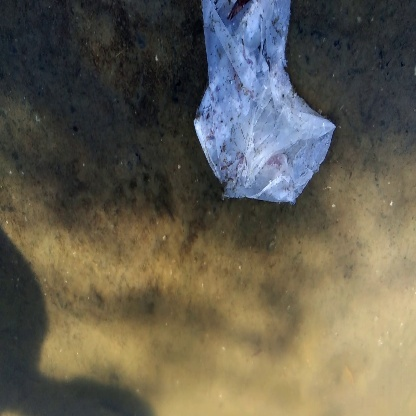plastic-bag: (189, 2, 339, 211)
